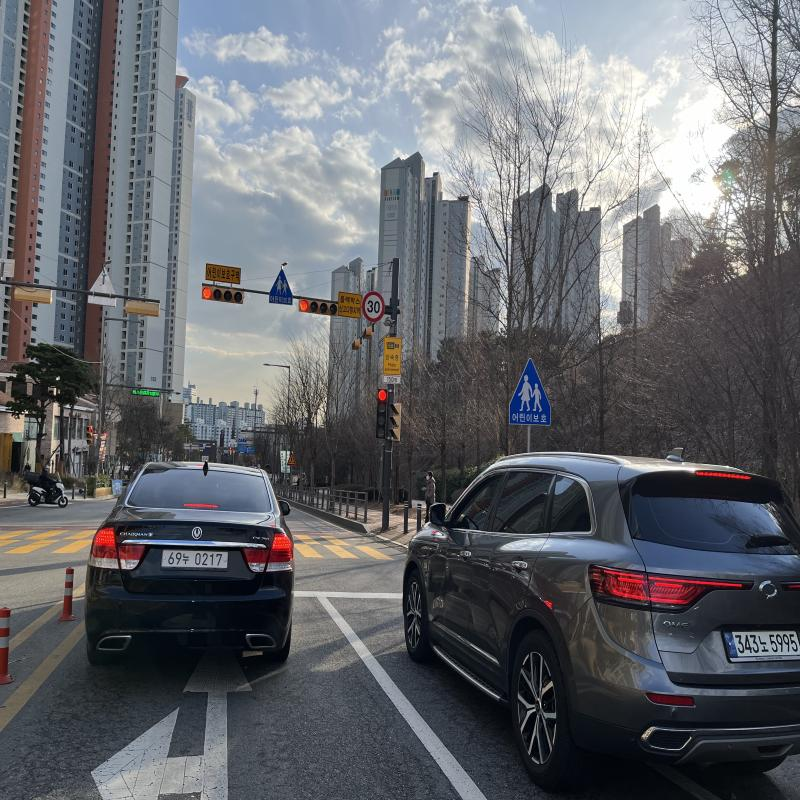red: (202, 286, 212, 300), (299, 299, 309, 312), (378, 389, 387, 402)
